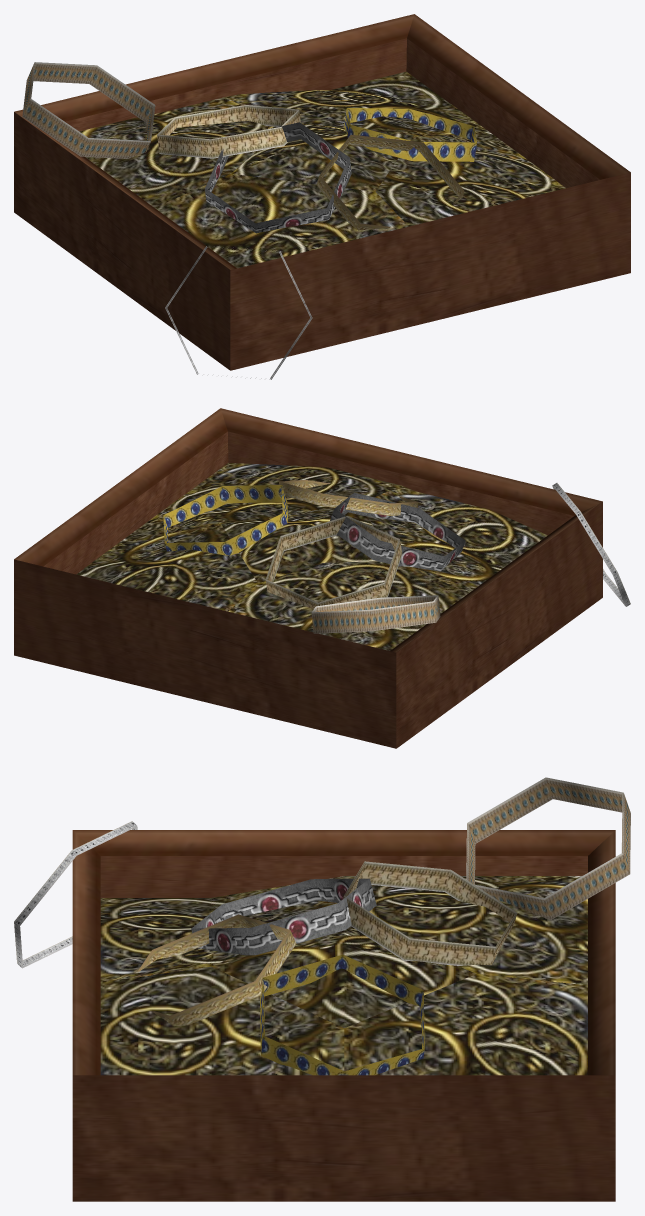
The model's file is shop_jeweler_junkBox01.fbx.
3 views of the same model, one above another, from view 1: azimuth 30°, elevation 25°; view 2: azimuth 150°, elevation 25°; view 3: azimuth 270°, elevation 25° (orthographic). The views are drawn at different scales.
Parts seen in each view (by area): view 1: junkBox, junkBox_jewels1, junkBox_bracelet7, junkBox_jewels2, pasted__junkBox_bracelet3, junkBox_bracelet1, junkBox_bracelet5, pasted__junkBox_bracelet4, junkBox_bracelet6; view 2: junkBox, junkBox_jewels1, junkBox_jewels2, junkBox_bracelet5, junkBox_bracelet7, junkBox_bracelet1, pasted__junkBox_bracelet3, pasted__junkBox_bracelet4, junkBox_bracelet6; view 3: junkBox, junkBox_jewels1, junkBox_jewels2, junkBox_bracelet7, junkBox_bracelet5, pasted__junkBox_bracelet3, junkBox_bracelet1, pasted__junkBox_bracelet4, junkBox_bracelet6.
Boxes of the visible parts, bbox=[...] form: junkBox: bbox=[14, 14, 630, 370]; junkBox_jewels1: bbox=[79, 71, 565, 268]; junkBox_bracelet7: bbox=[22, 62, 155, 158]; junkBox_jewels2: bbox=[231, 123, 413, 191]; pasted__junkBox_bracelet3: bbox=[157, 105, 300, 158]; junkBox_bracelet1: bbox=[344, 108, 476, 161]; junkBox_bracelet5: bbox=[205, 122, 351, 233]; pasted__junkBox_bracelet4: bbox=[316, 134, 464, 230]; junkBox_bracelet6: bbox=[165, 246, 312, 379]; junkBox: bbox=[14, 408, 602, 748]; junkBox_jewels1: bbox=[76, 463, 547, 650]; junkBox_jewels2: bbox=[221, 507, 377, 583]; junkBox_bracelet5: bbox=[330, 492, 465, 571]; junkBox_bracelet7: bbox=[311, 595, 440, 633]; junkBox_bracelet1: bbox=[163, 485, 287, 555]; pasted__junkBox_bracelet3: bbox=[265, 516, 402, 608]; pasted__junkBox_bracelet4: bbox=[278, 480, 418, 515]; junkBox_bracelet6: bbox=[552, 483, 630, 606]; junkBox: bbox=[72, 830, 615, 1201]; junkBox_jewels1: bbox=[100, 876, 587, 1075]; junkBox_jewels2: bbox=[212, 926, 476, 1028]; junkBox_bracelet7: bbox=[466, 777, 630, 919]; junkBox_bracelet5: bbox=[191, 878, 376, 955]; pasted__junkBox_bracelet3: bbox=[343, 861, 517, 965]; junkBox_bracelet1: bbox=[260, 954, 424, 1075]; pasted__junkBox_bracelet4: bbox=[137, 914, 296, 1026]; junkBox_bracelet6: bbox=[14, 821, 137, 968].
Size of the model in its own units: 68.29 by 21.05 by 65.94.
Materials: 2 (2 with a texture image).
